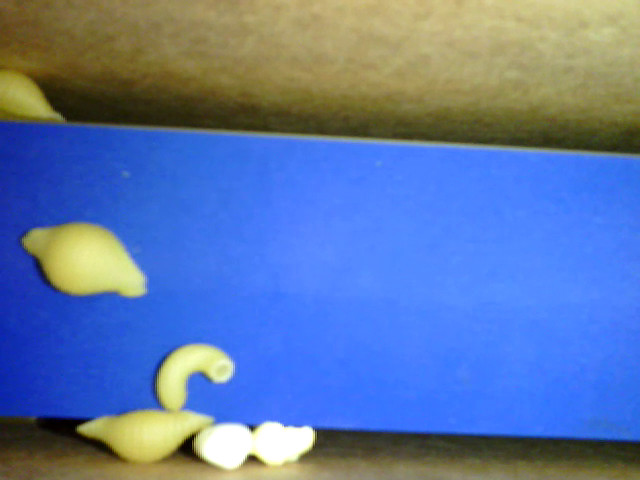elbow: (153, 342, 236, 410)
shell: (22, 222, 152, 299), (81, 411, 217, 462), (2, 68, 68, 124)
